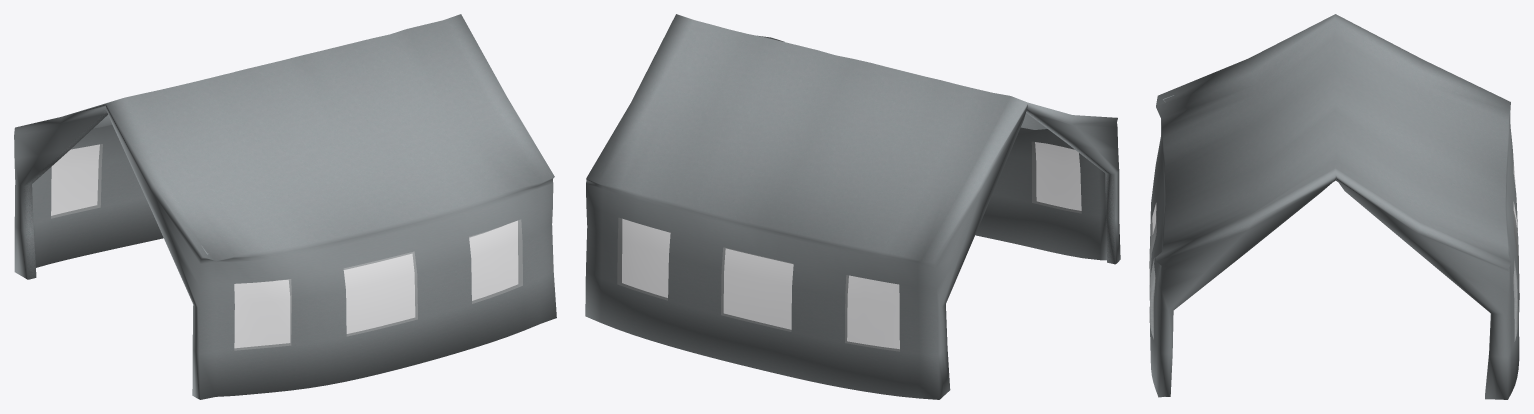
The model's file is carpa solida.fbx.
3 renders of one model, left to right at view 1: azimuth 30°, elevation 25°; view 2: azimuth 150°, elevation 25°; view 3: azimuth 270°, elevation 25°, orthographic. The views are drawn at different scales.
Parts seen in each view (by area): view 1: Cube.033; view 2: Cube.033; view 3: Cube.033.
Part boxes in pixels (x1,y1,x2,y2): Cube.033: (14, 14, 556, 399); Cube.033: (585, 14, 1120, 399); Cube.033: (1149, 14, 1519, 399).
Bounding box in the file's own units: 1264 × 824 × 1200.
